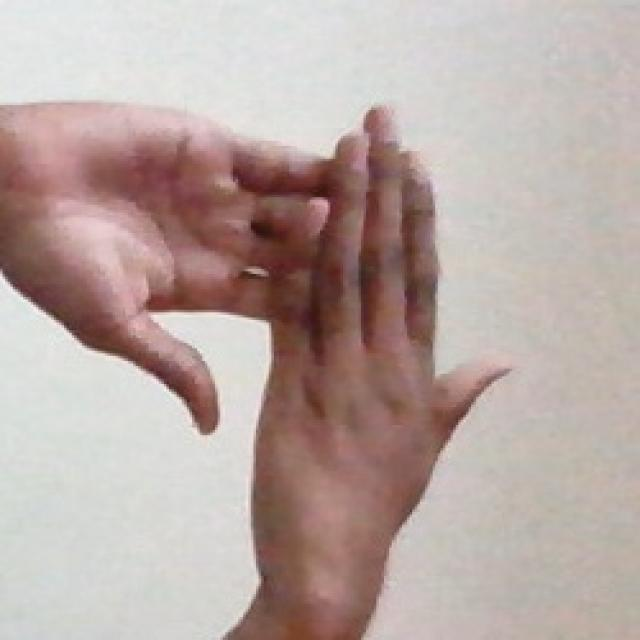Alphabet-H: (17, 77, 522, 584)
